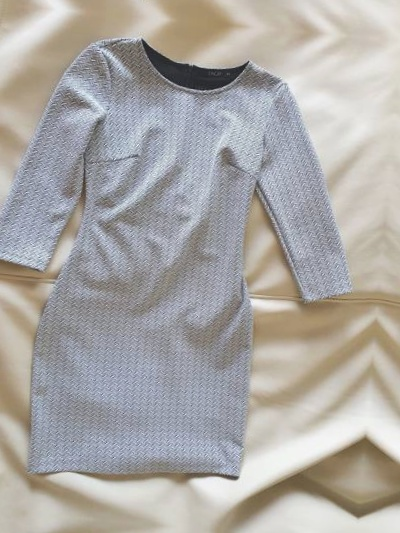Dress: (0, 20, 389, 502), (372, 56, 400, 533), (12, 0, 400, 25)
